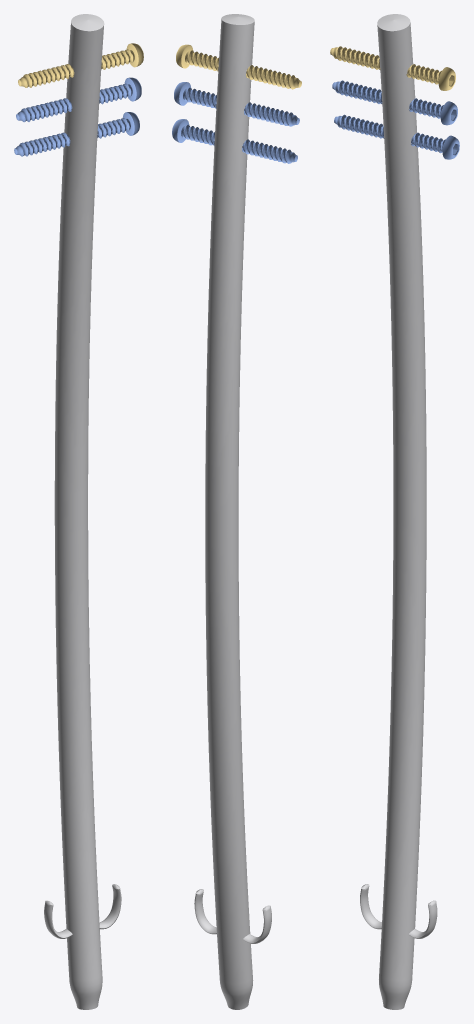
Rendered from navy_11x360_lod0.glb.
3 views of the same model, side by side, from view 1: azimuth 30°, elevation 25°; view 2: azimuth 150°, elevation 25°; view 3: azimuth 330°, elevation 25° (orthographic).
Visible parts, largest first — view 1: navy; view 2: navy; view 3: navy.
Part boxes in pixels (x1,y1,x2,y2): navy: (14,14,143,1009); navy: (172,14,301,1009); navy: (330,14,459,1009).
Size of the model in its own units: 0.046 by 0.36 by 0.0216.
